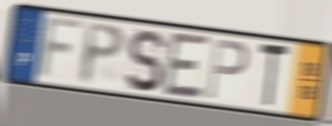E: (161, 30, 213, 102)
F: (34, 14, 88, 83)
P: (78, 20, 128, 88), (204, 36, 250, 103)
S: (123, 27, 167, 94)
T: (258, 40, 292, 111)
